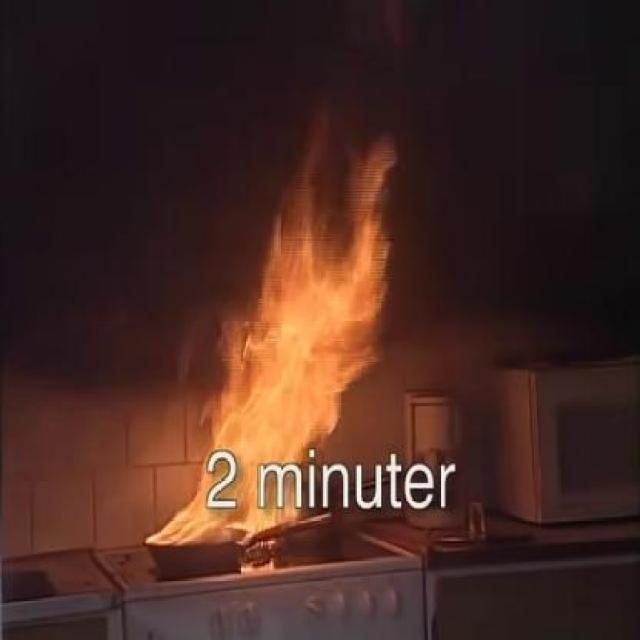fire: (133, 141, 386, 581)
